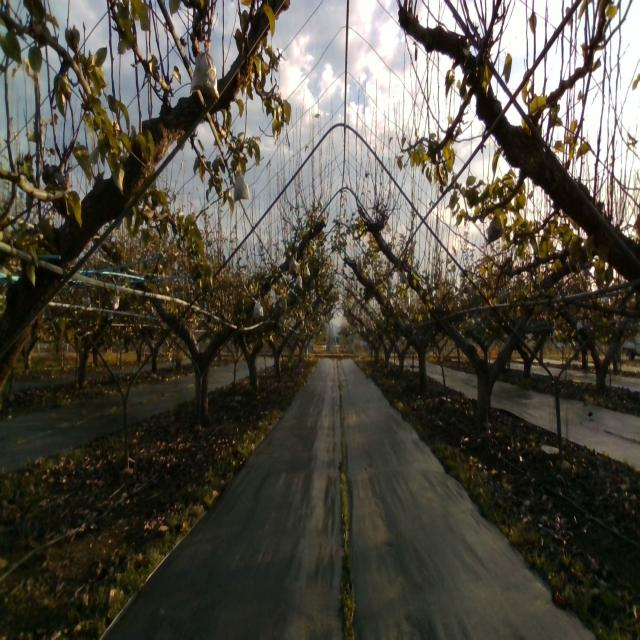pearbags: (190, 51, 220, 100), (233, 170, 251, 203), (486, 213, 504, 246), (288, 254, 300, 276), (254, 300, 264, 321)
